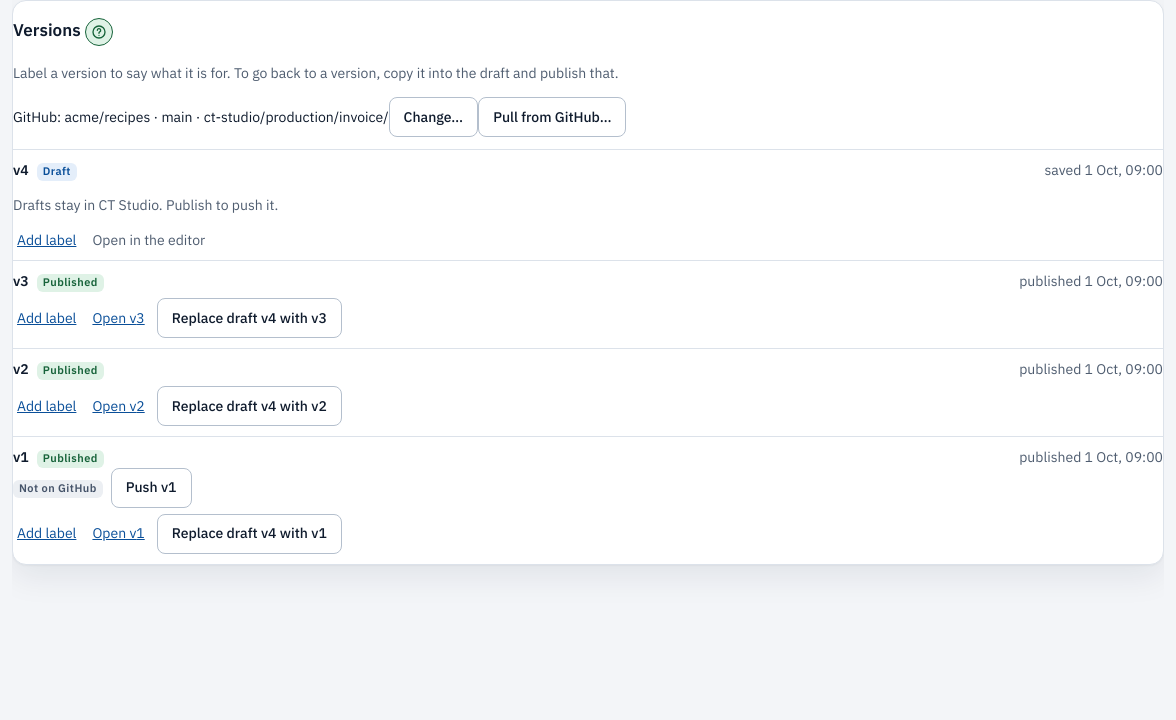
VersionsPanel GitHub sync › shows a refused push as an alert
Step 1. Click the button "Push v1" → (151, 488), box [111, 468, 192, 508]
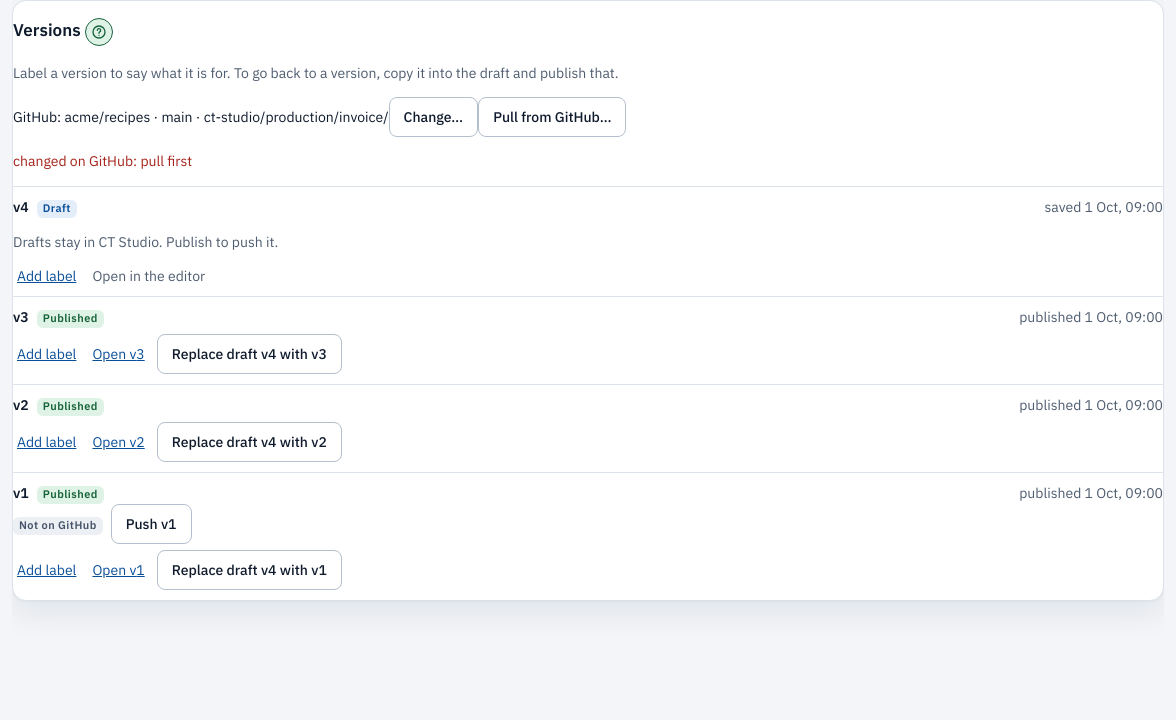
Expected: the message reads "changed on GitHub: pull first", [13, 152, 192, 170]
